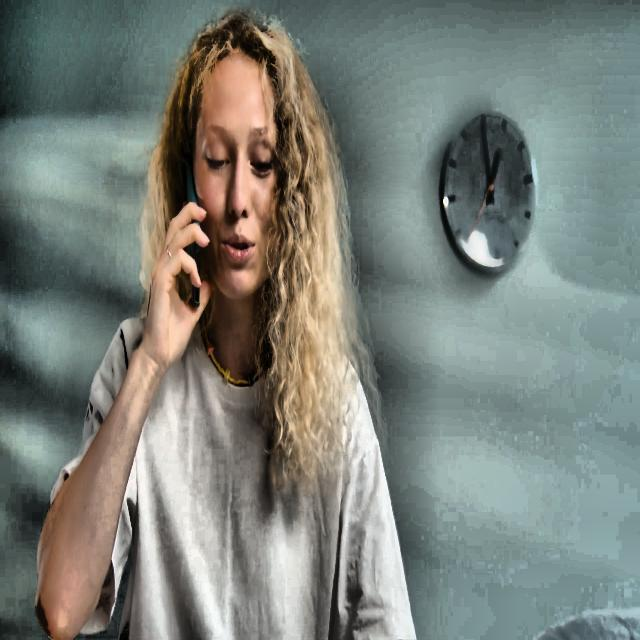Phone: (178, 138, 202, 311)
